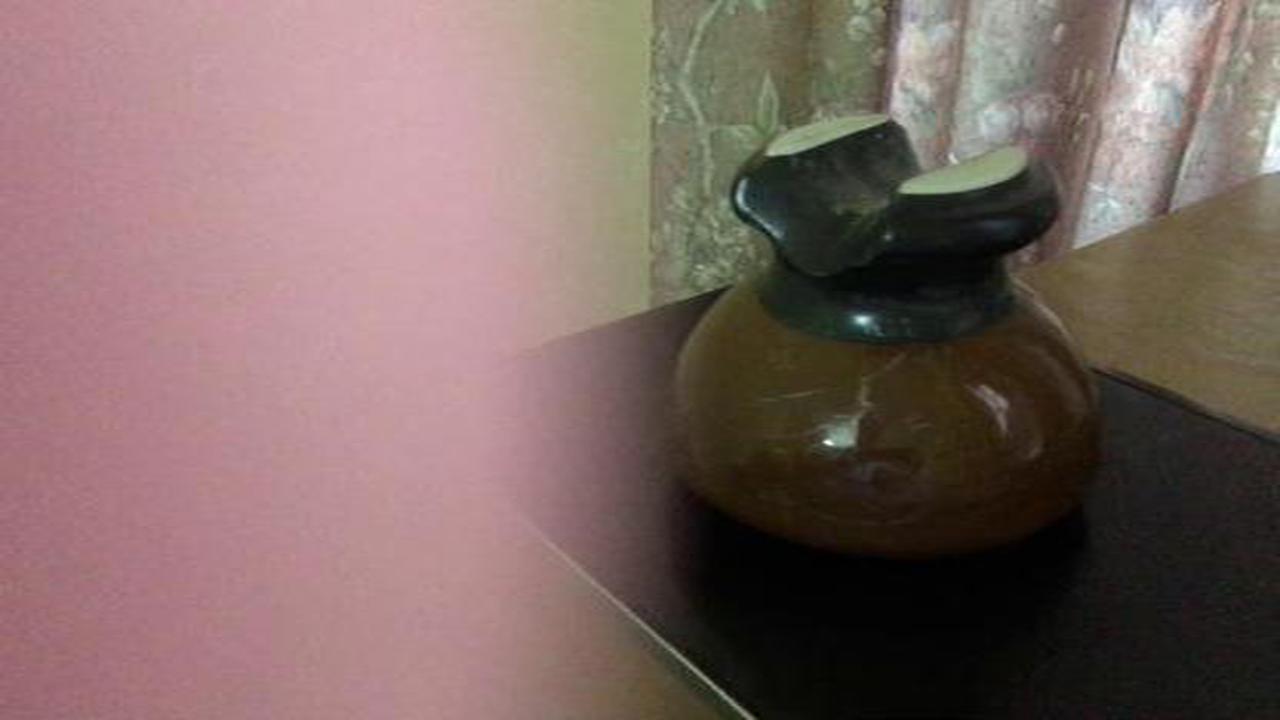insulator_pin: (650, 106, 1124, 579)
